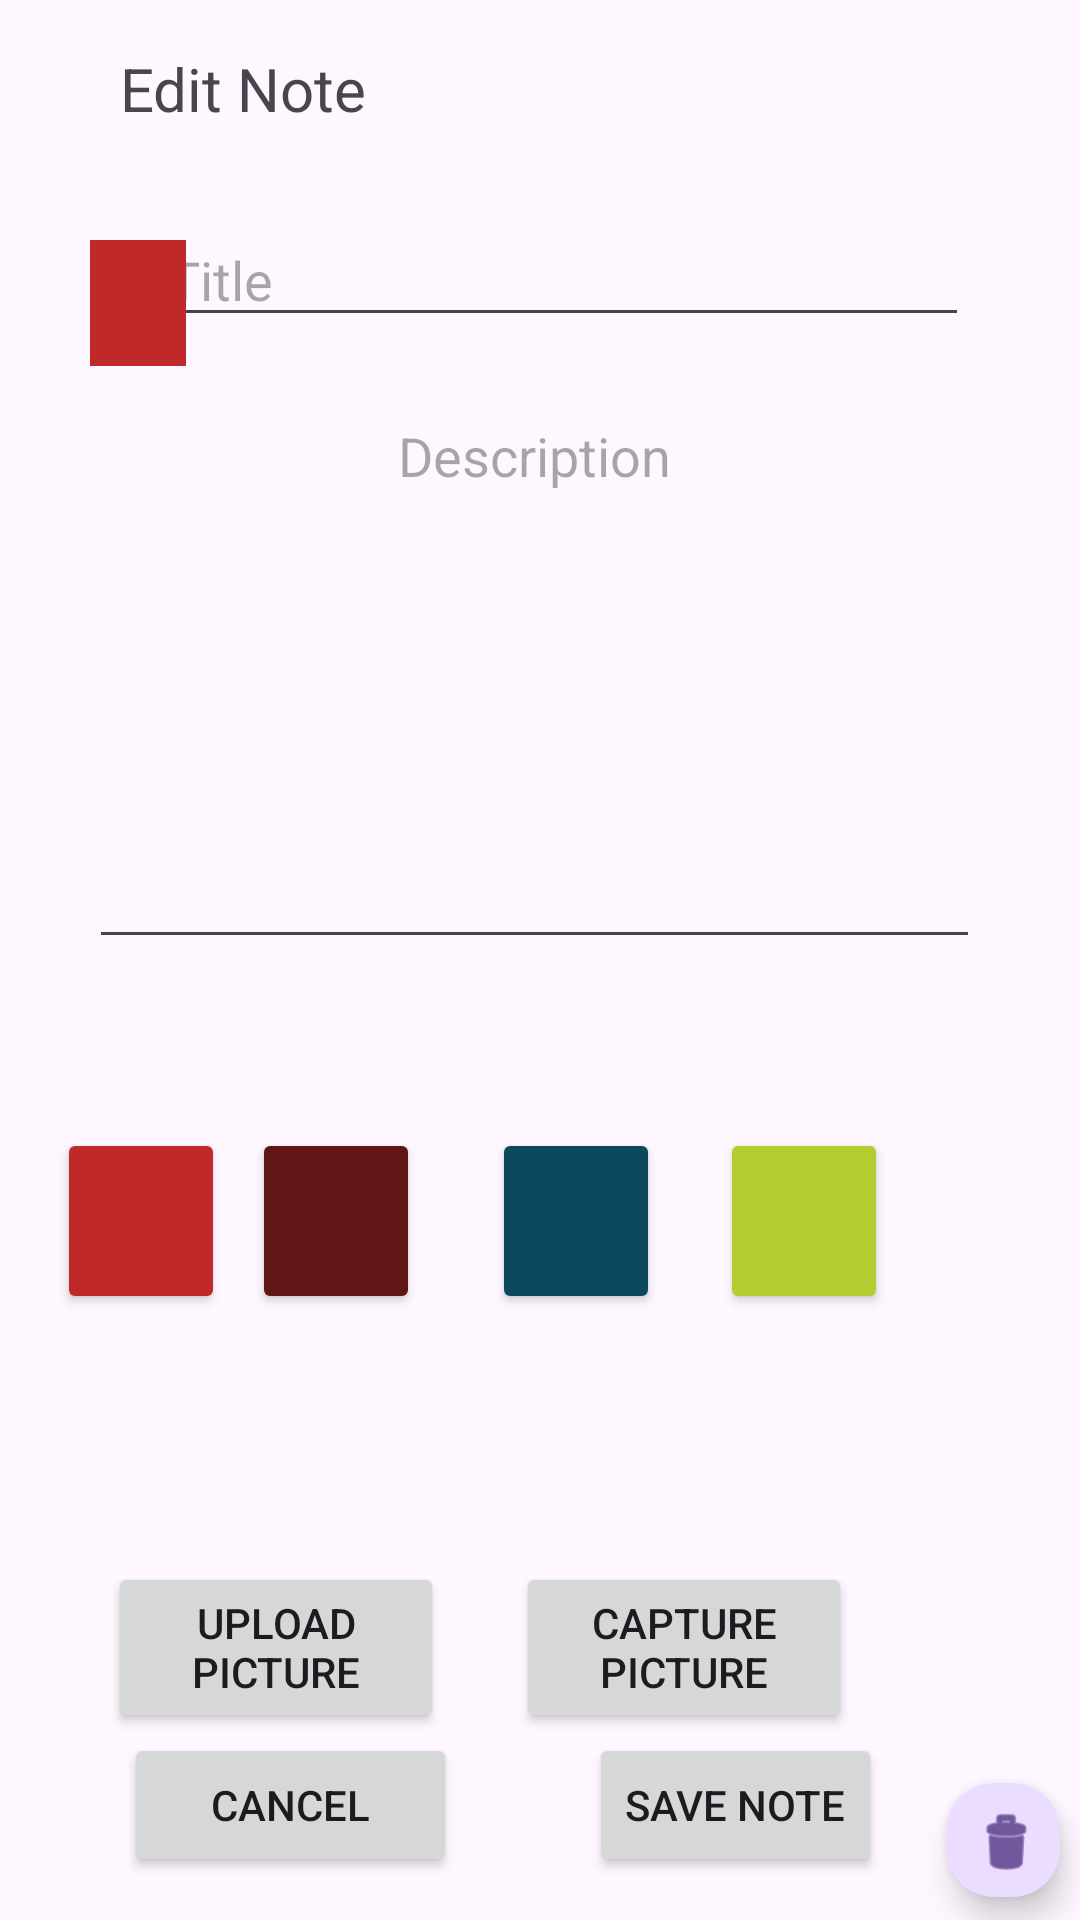

Named icons in this screenshot (1080*1920) and their bounding boxes, (x1=x1, y1=y1, x2=x2, y2=y2):
delete: (x1=946, y1=1783, x2=1063, y2=1909)
